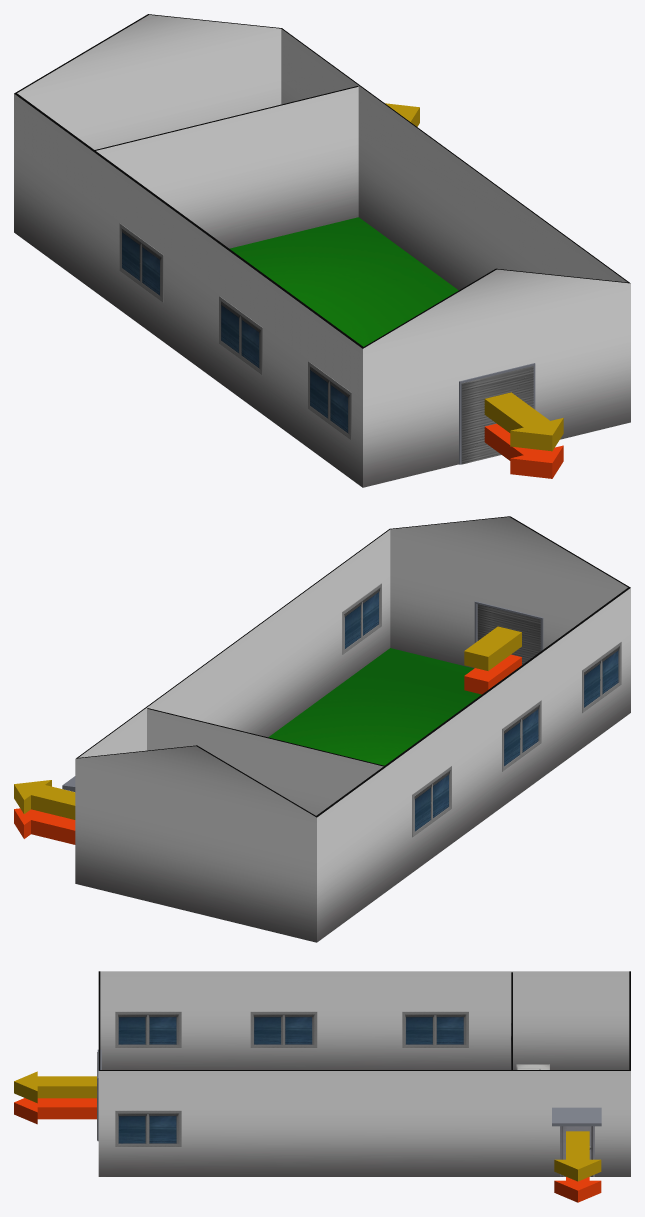
File: soubrain_T1-8-1F.glb
3 renders of one model, top to bottom at view 1: azimuth 30°, elevation 25°; view 2: azimuth 150°, elevation 25°; view 3: azimuth 270°, elevation 25°, orthographic. The views are drawn at different scales.
Visible parts, largest first — view 1: Box108, Box109, T1-8-1F, Box005, arrow_Y_2_T1-8-1F, arrow_R_2_T1-8-1F; view 2: Box108, Box109, T1-8-1F, Box005, arrow_Y_1_T1-8-1F, arrow_Y_2_T1-8-1F, arrow_R_1_T1-8-1F, arrow_R_2_T1-8-1F; view 3: Box108, T1-8-1F, arrow_Y_2_T1-8-1F, arrow_R_2_T1-8-1F, arrow_Y_1_T1-8-1F, Box106, arrow_R_1_T1-8-1F.
Boxes of the visible parts, left/top/right/bottom form: Box108: left=14, top=14, right=630, bottom=487; Box109: left=230, top=217, right=458, bottom=346; T1-8-1F: left=119, top=223, right=351, bottom=440; Box005: left=461, top=366, right=533, bottom=464; arrow_Y_2_T1-8-1F: left=484, top=392, right=563, bottom=451; arrow_R_2_T1-8-1F: left=484, top=423, right=563, bottom=478; Box108: left=75, top=516, right=630, bottom=942; Box109: left=268, top=648, right=481, bottom=765; T1-8-1F: left=342, top=583, right=621, bottom=837; Box005: left=477, top=604, right=540, bottom=664; arrow_Y_1_T1-8-1F: left=14, top=780, right=75, bottom=819; arrow_Y_2_T1-8-1F: left=464, top=626, right=521, bottom=670; arrow_R_1_T1-8-1F: left=14, top=808, right=75, bottom=844; arrow_R_2_T1-8-1F: left=464, top=654, right=521, bottom=694; Box108: left=98, top=971, right=630, bottom=1176; T1-8-1F: left=115, top=1011, right=594, bottom=1176; arrow_Y_2_T1-8-1F: left=14, top=1071, right=96, bottom=1103; arrow_R_2_T1-8-1F: left=14, top=1098, right=96, bottom=1124; arrow_Y_1_T1-8-1F: left=554, top=1131, right=601, bottom=1181; Box106: left=552, top=1107, right=601, bottom=1126; arrow_R_1_T1-8-1F: left=554, top=1177, right=601, bottom=1202.
Bounding box in the file's own units: 9.84 × 4.7 × 18.54.
Materials: 11 (8 with a texture image).
